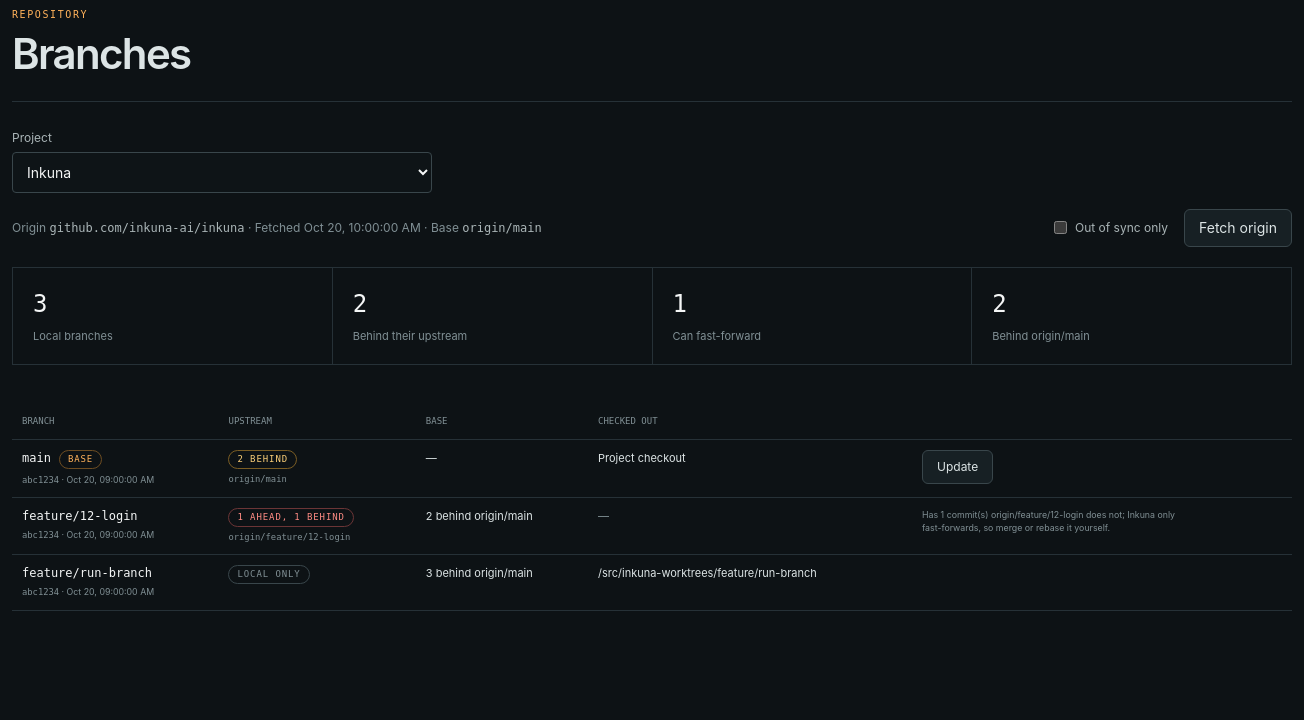
Test: BranchesView › shows local state, then fetches and marks what is out of sync
The image size is (1304, 720).
Expected: the text "2 behind" is shown, [228,450,297,468]
Expected: the text "Project checkout" is shown, [588,439,912,497]
Click the checkbox labelled "Out of sync only" at [1060, 228], box [1054,221,1067,234]
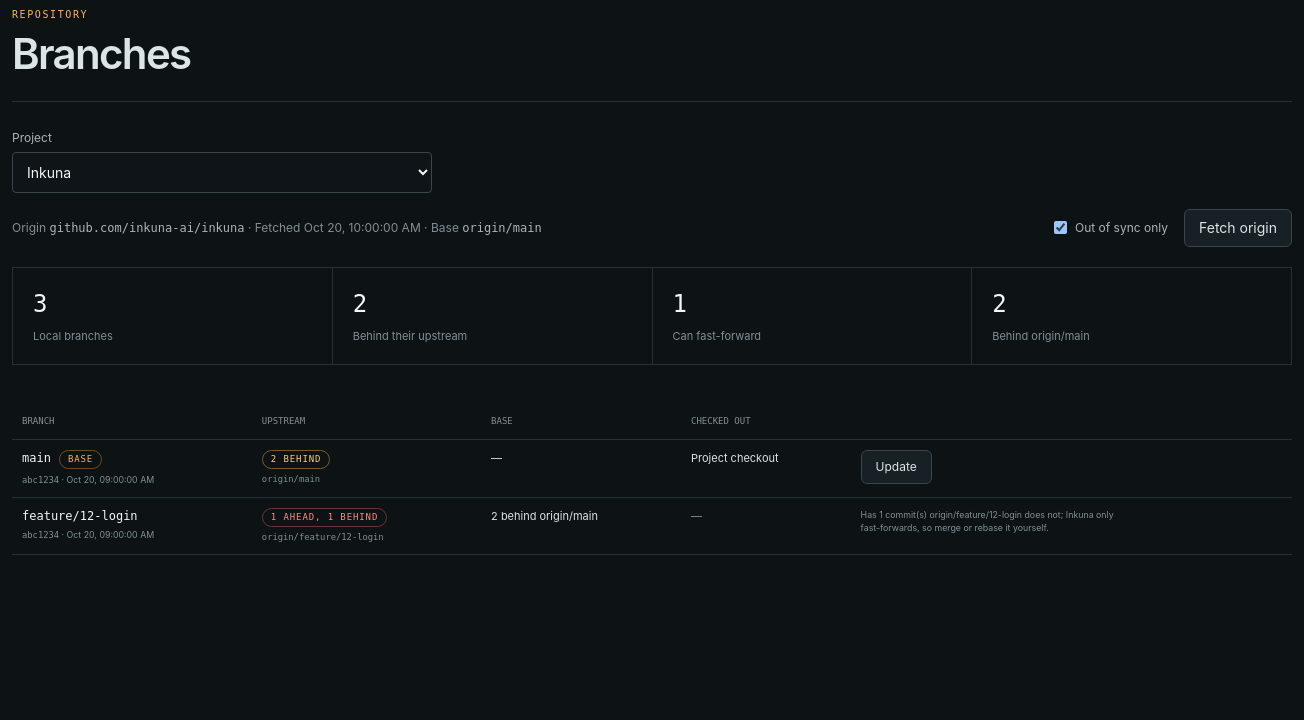
Expected: the row "main" is shown, [12,439,1292,497]
Result: the text "feature/run-branch" is gone
